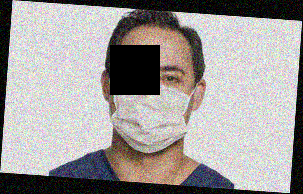with_mask: (109, 58, 192, 152)
